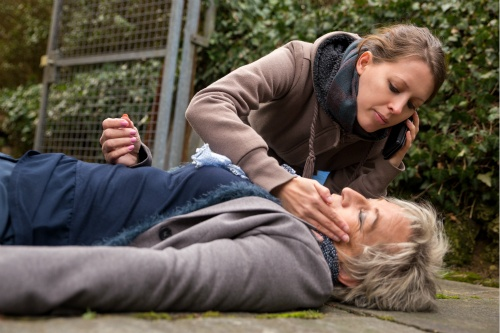falling: (2, 113, 443, 324)
